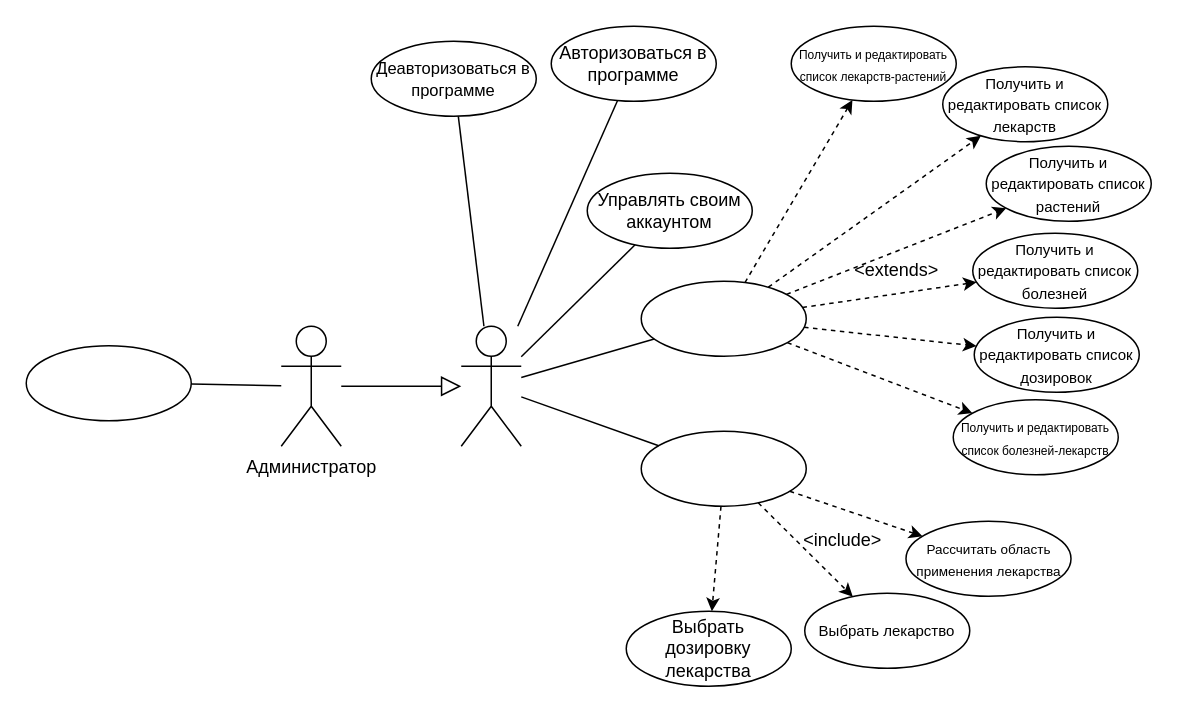
Some shapes in this 1178 by 713 pixel diagram are drawn without their labels. The centre of each missing label's shape, as x and y in pixels:
Выбрать лечение для растения: point (723, 468)
Получить и редактировать списки: point (723, 318)
Получить и редактировать список аккаунтов: point (108, 382)
Пользователь: point (490, 385)
